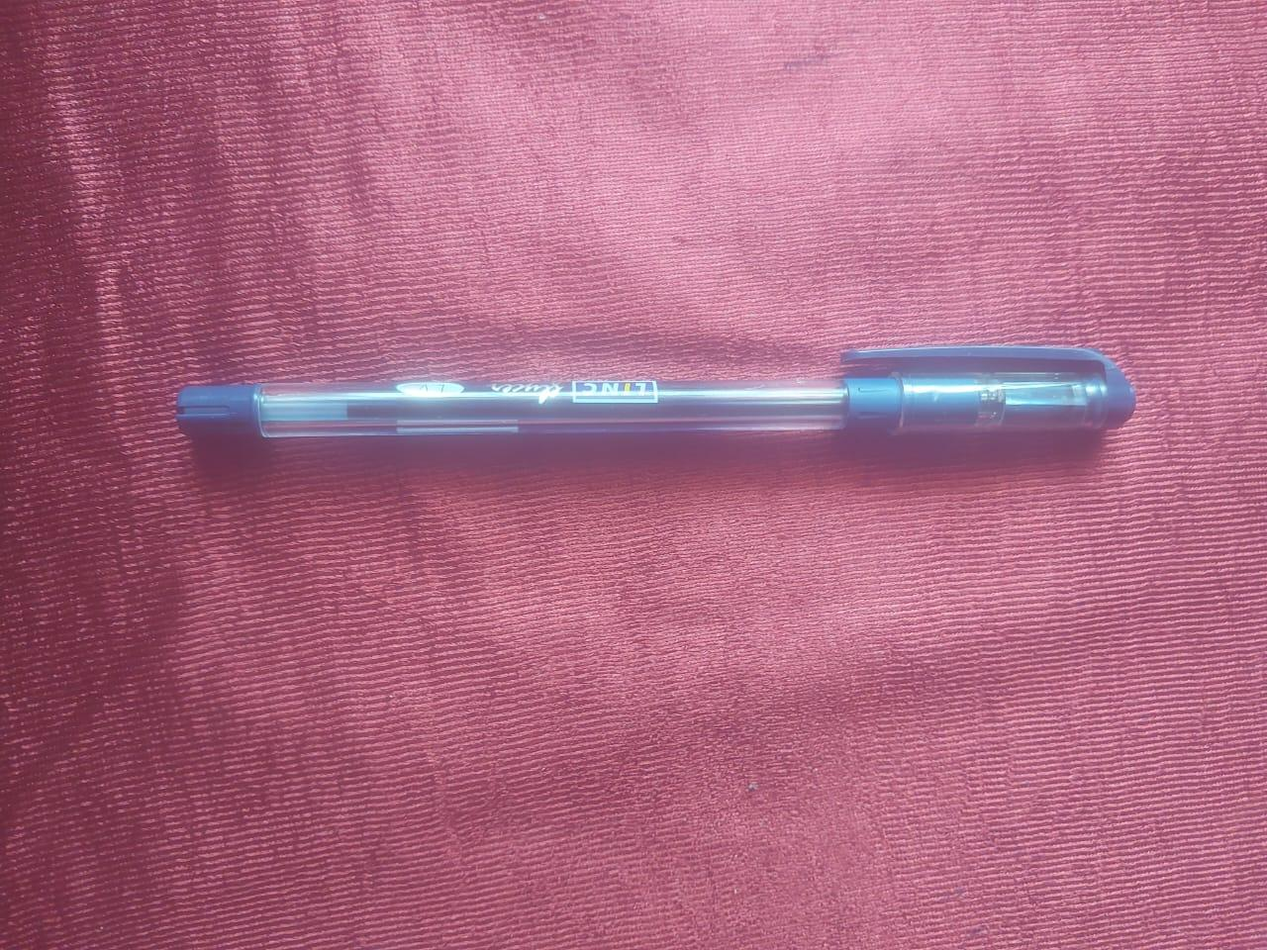pen: (174, 345, 1148, 444)
